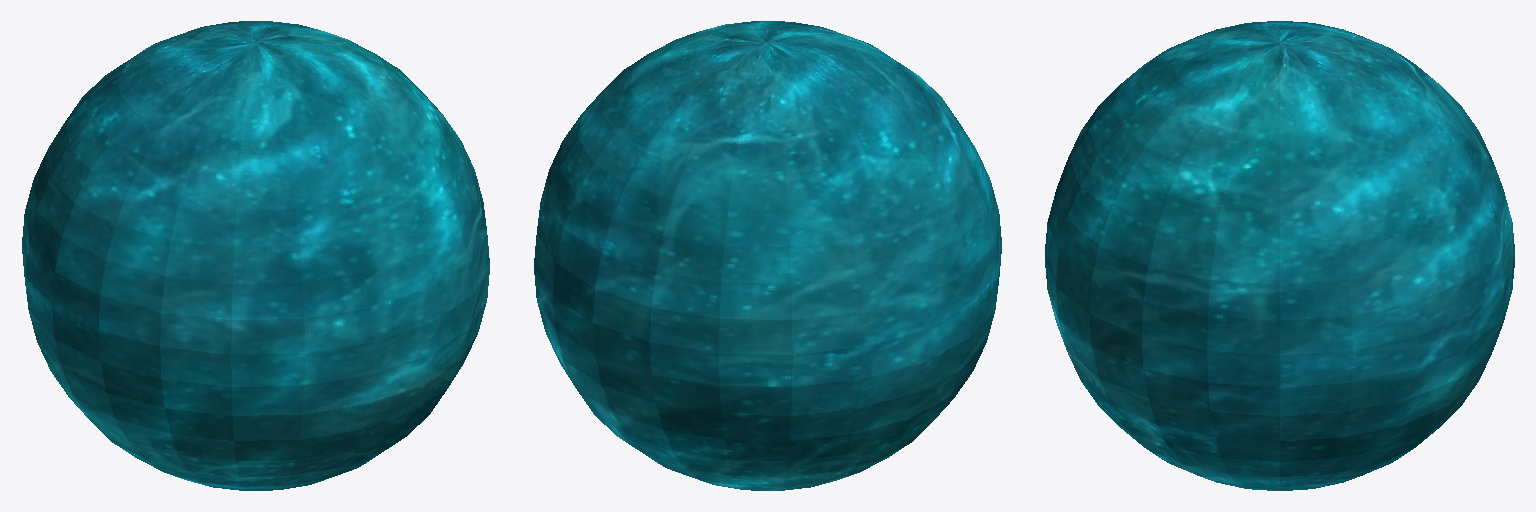
The picture shows the model from 3 angles: view 1: azimuth 30°, elevation 25°; view 2: azimuth 150°, elevation 25°; view 3: azimuth 270°, elevation 25°; orthographic projection.
Visible parts, largest first — view 1: pSphere1; view 2: pSphere1; view 3: pSphere1.
Boxes of the visible parts, x1,y1,x2,y2 form: pSphere1: [22, 21, 489, 490]; pSphere1: [534, 21, 1001, 490]; pSphere1: [1045, 21, 1514, 490].
Bounding box in the file's own units: 8 × 8 × 8.
1 materials, 1 textured.